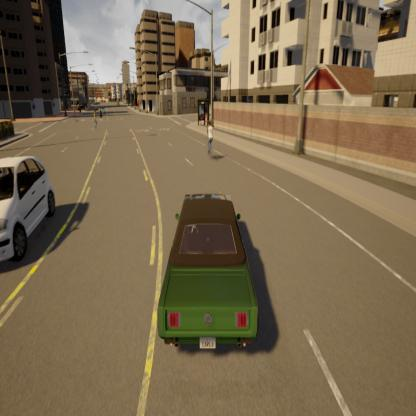Cars: (152, 184, 268, 358), (0, 151, 69, 267), (98, 104, 108, 116)
Pedestrian: (92, 107, 100, 130)
